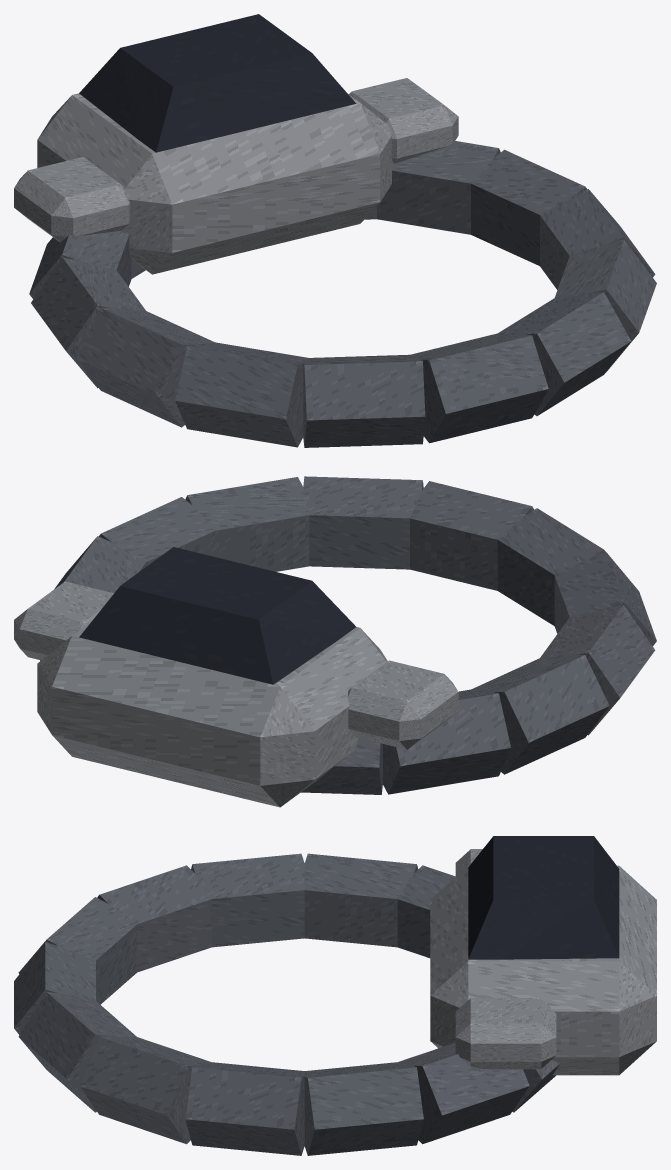
File: onyx_silver_ring.glb
3 views of the same model, one above another, from view 1: azimuth 30°, elevation 25°; view 2: azimuth 150°, elevation 25°; view 3: azimuth 270°, elevation 25° (orthographic). The views are drawn at different scales.
Visible parts, largest first — view 1: block_bezel, block_faceted onyx, block_silver band5, block_silver band4, block_silver band3, block_silver band6, block_silver band2, block_silver band13, block_silver band12, block_skull -1, block_silver band7, block_silver band1 (+3 smaller); view 2: block_bezel, block_faceted onyx, block_silver band2, block_silver band7, block_silver band3, block_silver band1, block_silver band8, block_skull -1, block_silver band4, block_silver band6, block_silver band5, block_silver band0 (+3 smaller); view 3: block_bezel, block_faceted onyx, block_silver band13, block_silver band0, block_silver band1, block_silver band7, block_silver band6, block_silver band5, block_silver band12, block_skull 1, block_silver band2, block_silver band4 (+3 smaller).
Boxes of the visible parts, x1=… form: block_bezel: x1=37, y1=93, x2=394, y2=274; block_faceted onyx: x1=79, y1=14, x2=356, y2=152; block_silver band5: x1=175, y1=342, x2=308, y2=447; block_silver band4: x1=303, y1=354, x2=425, y2=447; block_silver band3: x1=410, y1=333, x2=548, y2=443; block_silver band6: x1=76, y1=308, x2=214, y2=427; block_silver band2: x1=498, y1=292, x2=631, y2=415; block_silver band13: x1=471, y1=149, x2=587, y2=265; block_silver band12: x1=377, y1=140, x2=500, y2=234; block_skull -1: x1=14, y1=157, x2=130, y2=242; block_silver band7: x1=31, y1=257, x2=145, y2=388; block_silver band1: x1=554, y1=240, x2=656, y2=371; block_bezel: x1=37, y1=622, x2=387, y2=807; block_faceted onyx: x1=79, y1=547, x2=355, y2=684; block_silver band2: x1=303, y1=476, x2=423, y2=569; block_silver band7: x1=471, y1=655, x2=609, y2=774; block_silver band3: x1=410, y1=481, x2=533, y2=590; block_silver band1: x1=185, y1=477, x2=309, y2=571; block_silver band8: x1=383, y1=689, x2=510, y2=794; block_skull -1: x1=347, y1=660, x2=458, y2=749; block_silver band4: x1=497, y1=508, x2=605, y2=625; block_silver band6: x1=540, y1=604, x2=655, y2=735; block_silver band5: x1=554, y1=552, x2=656, y2=645; block_silver band0: x1=99, y1=497, x2=214, y2=566; block_bezel: x1=430, y1=865, x2=656, y2=1075; block_faceted onyx: x1=468, y1=836, x2=619, y2=959; block_silver band13: x1=304, y1=1062, x2=423, y2=1155; block_silver band0: x1=185, y1=1062, x2=304, y2=1155; block_silver band1: x1=80, y1=1036, x2=211, y2=1144; block_silver band7: x1=304, y1=853, x2=418, y2=947; block_silver band6: x1=191, y1=853, x2=304, y2=947; block_silver band5: x1=97, y1=865, x2=211, y2=972; block_silver band12: x1=398, y1=1042, x2=529, y2=1144; block_skull 1: x1=455, y1=998, x2=556, y2=1069; block_silver band2: x1=18, y1=992, x2=136, y2=1112; block_silver band4: x1=18, y1=897, x2=137, y2=1004.
Bounding box in the file's own units: 0.0235 × 0.00771 × 0.0255.
1 material, 1 textured.
